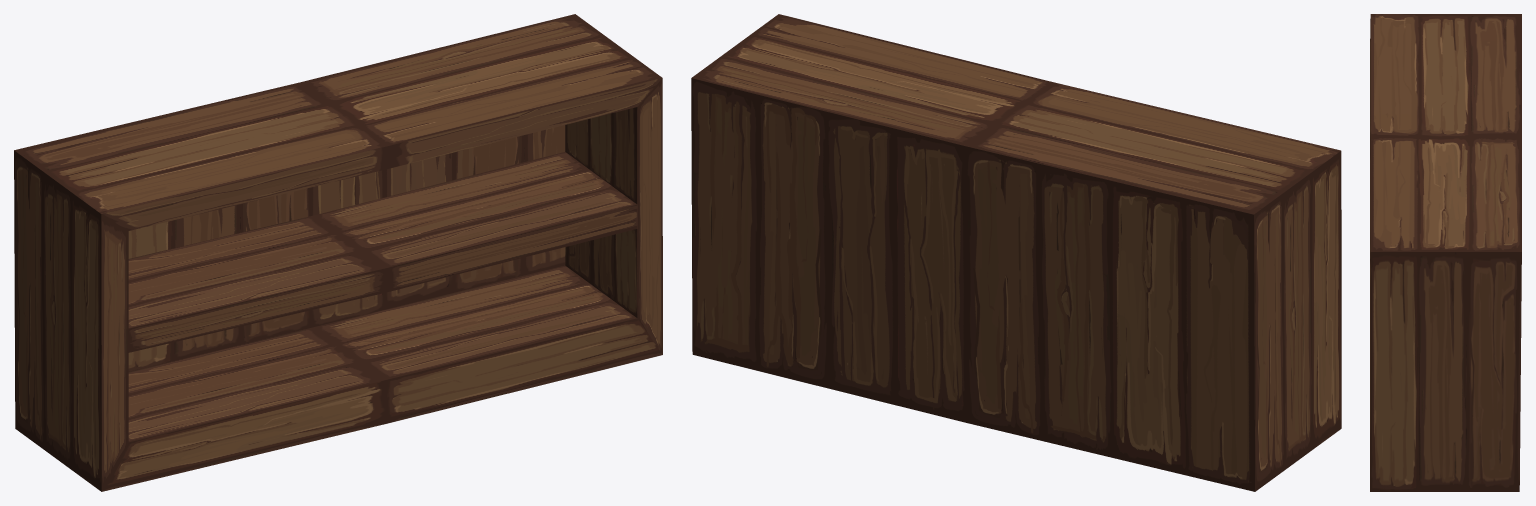
File: SM_PROP_cabinet_interior_08.fbx
3 views of the same model, side by side, from view 1: azimuth 30°, elevation 25°; view 2: azimuth 150°, elevation 25°; view 3: azimuth 270°, elevation 25° (orthographic). The views are drawn at different scales.
Visible parts, largest first — view 1: SM_PROP_cabinet_interior_08; view 2: SM_PROP_cabinet_interior_08; view 3: SM_PROP_cabinet_interior_08.
Boxes of the visible parts, x1,y1,x2,y2 form: SM_PROP_cabinet_interior_08: [14, 14, 662, 491]; SM_PROP_cabinet_interior_08: [691, 14, 1341, 491]; SM_PROP_cabinet_interior_08: [1370, 14, 1521, 491].
Size of the model in its own units: 200 by 94.98 by 54.08.
